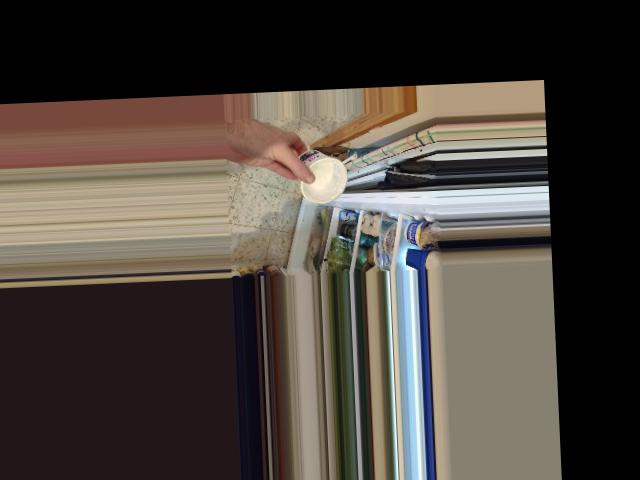cotage: (294, 144, 351, 204)
